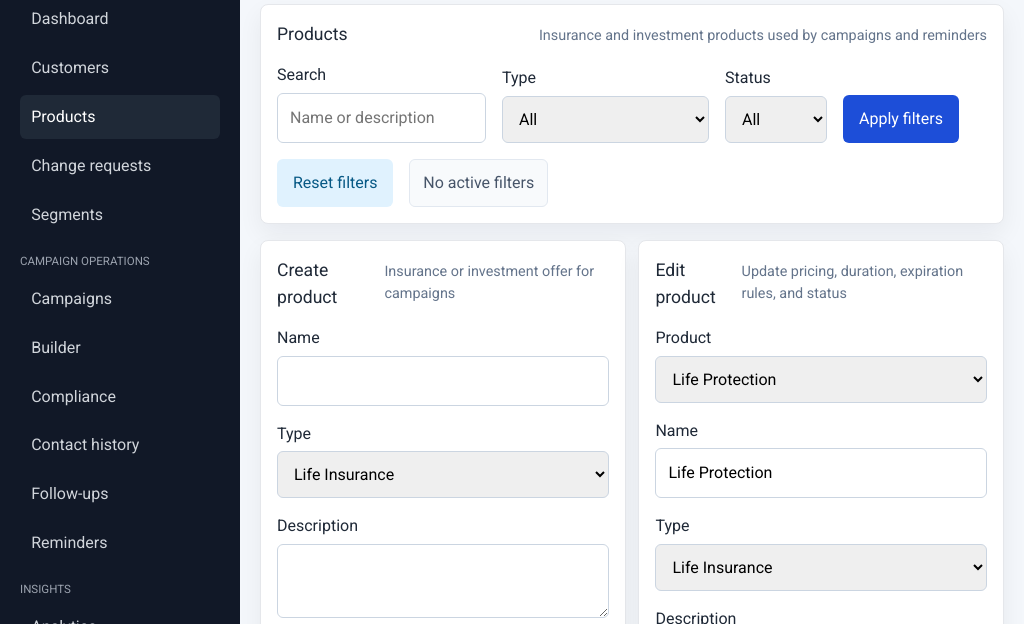
product creation UI integration (item 601) › creates a product through the UI and shows success plus catalog row
Type "UI Created Life Cover" into the field named "Product name" at (443, 381), box [277,356,609,406]
Select "Life Insurance" in the dropdown named "Product type" at (443, 475), box [277,451,609,498]
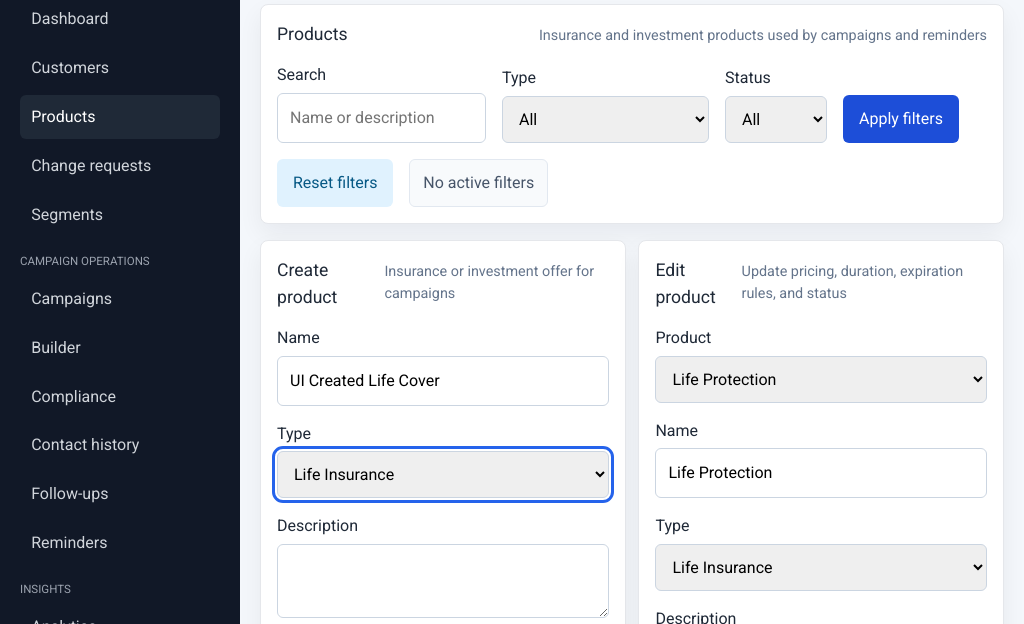
Type "Controlled UI product creation fixture" into the text box named "Product description" at (443, 581), box [277,544,609,618]
(page scrolled)
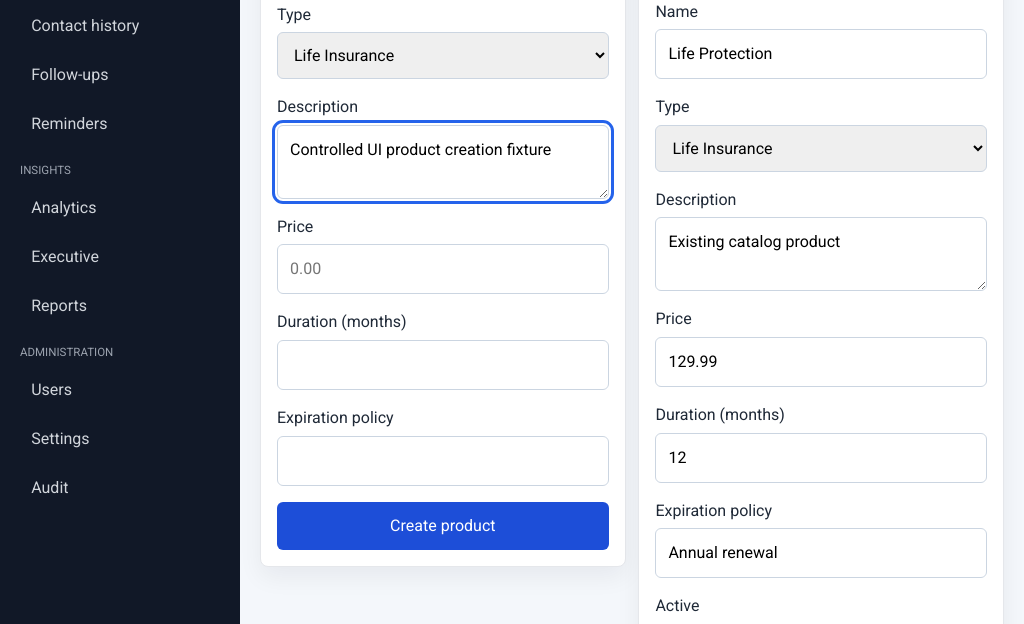
Type "149.99" into the field named "Product price" at (443, 269), box [277,244,609,294]
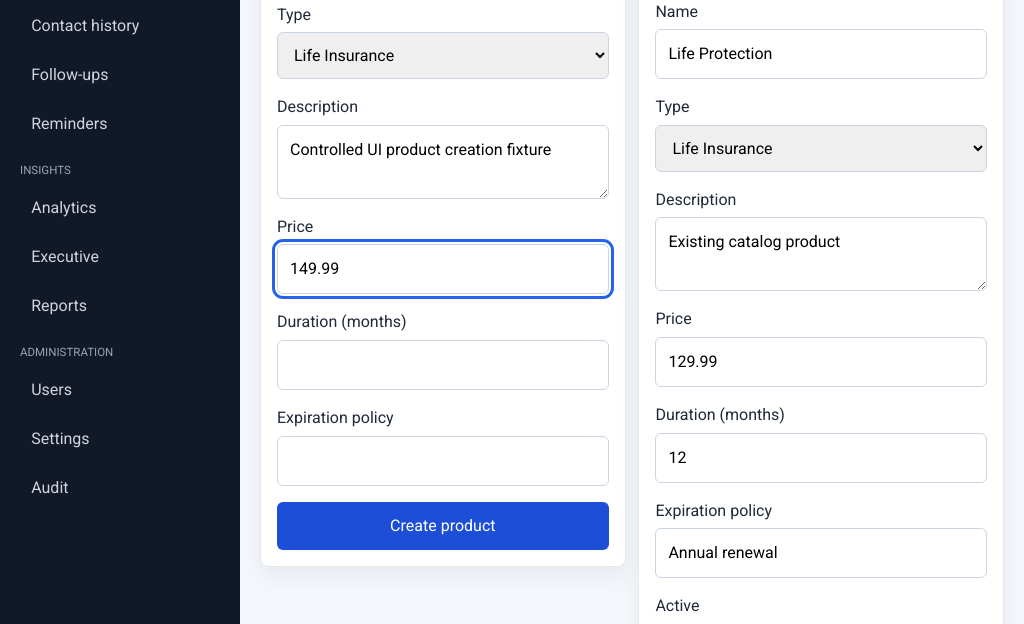
Type "12" into the field named "Product duration in months" at (443, 365), box [277,340,609,390]
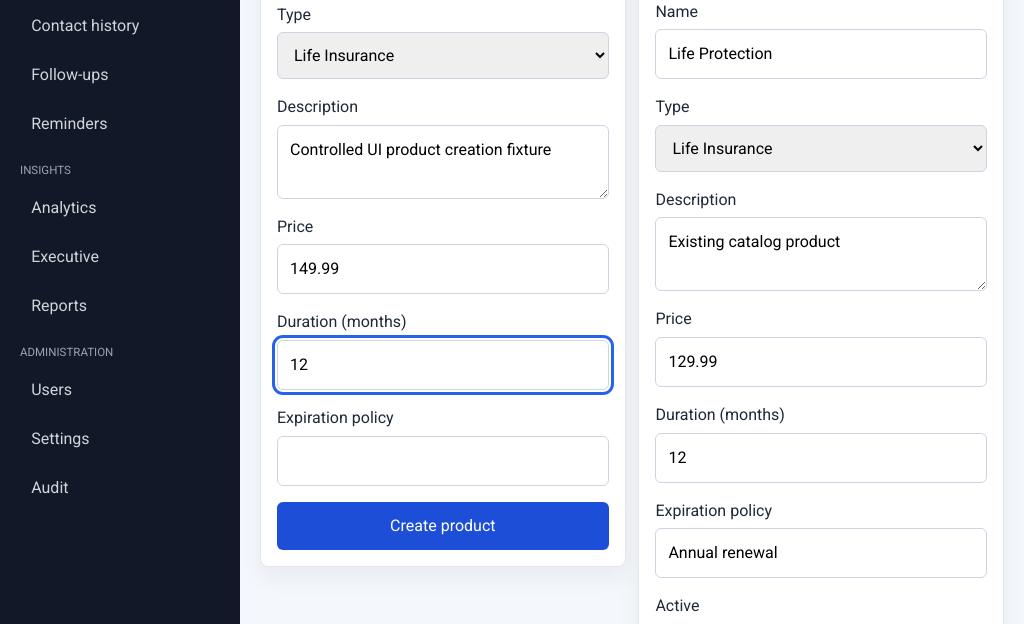
Type "Annual renewal" into the field named "Product expiration policy" at (443, 461), box [277,436,609,486]
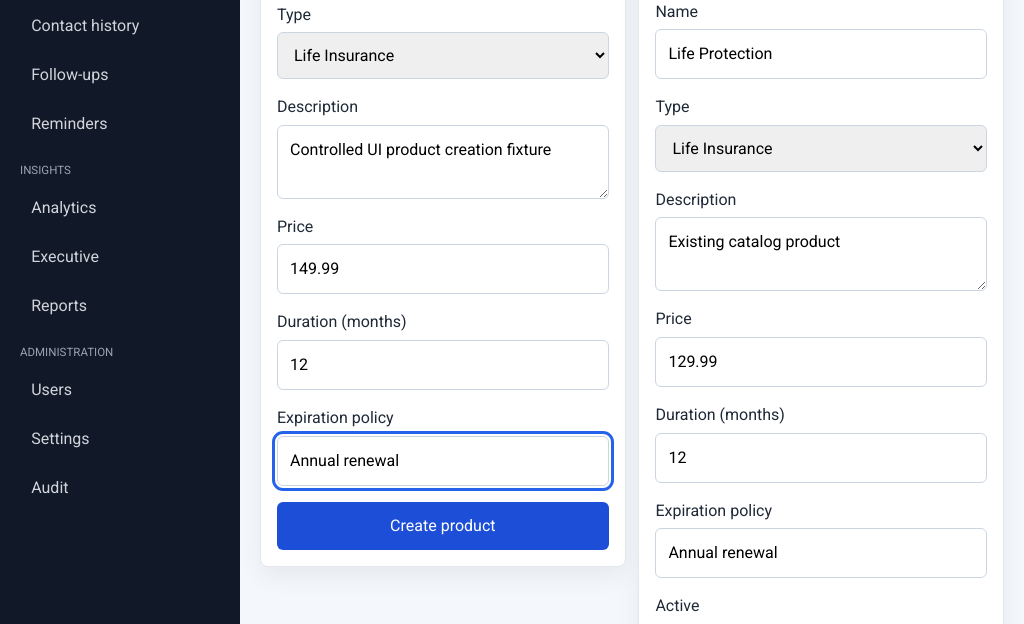
Click the button "Create product" at (443, 526), box [277,502,609,550]
(page scrolled)
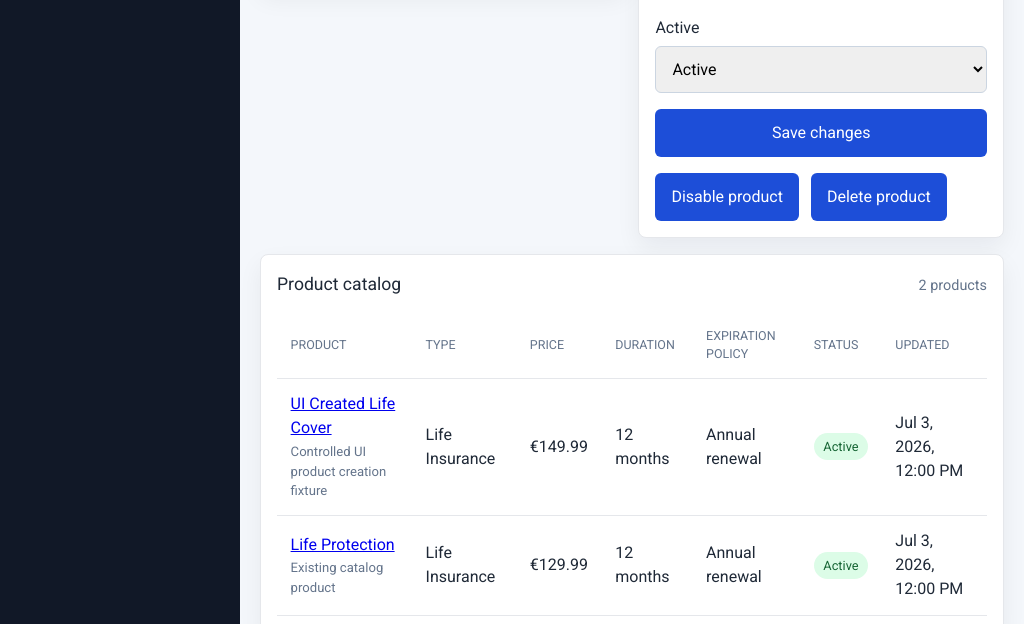
Check: the link "UI Created Life Cover" is shown, box [291,392,398,440]
